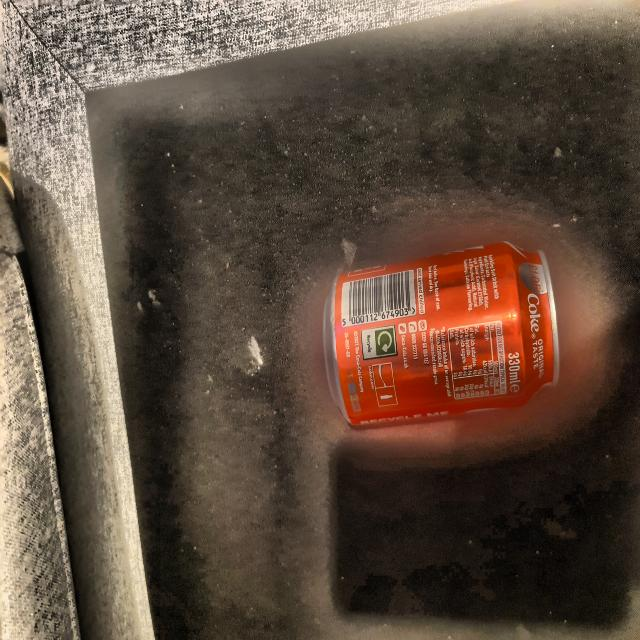coke-can: (326, 250, 560, 423)
